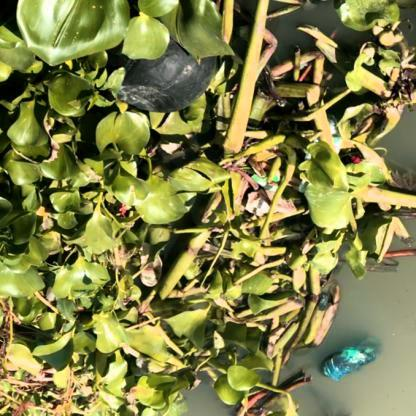Trash: (119, 40, 224, 113), (318, 335, 381, 385)
